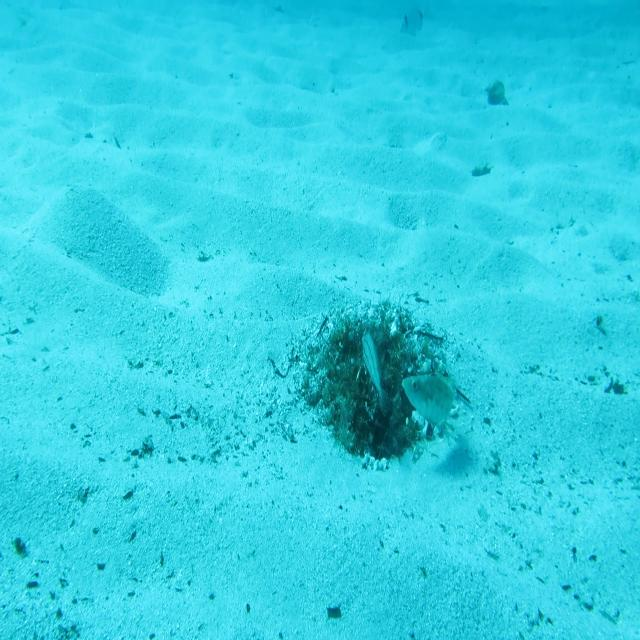BEND: (401, 369, 455, 432)
core_nest: (355, 323, 401, 363)
female: (362, 330, 392, 418)
nest: (290, 290, 460, 477)
other_fish: (398, 1, 428, 39)
vegetation: (486, 79, 508, 106), (472, 162, 491, 180), (324, 604, 345, 620)
